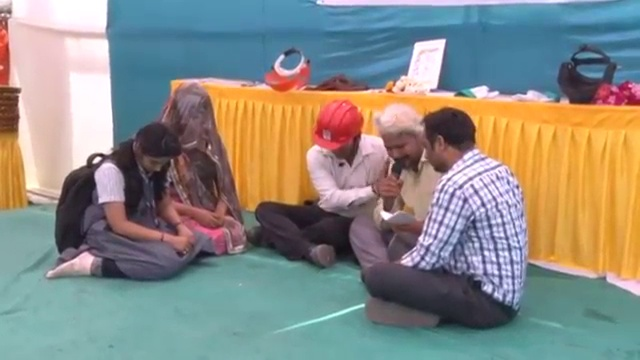helmet: (305, 97, 367, 151)
helmet_off: (421, 106, 478, 179), (163, 80, 219, 153), (126, 122, 179, 180), (379, 106, 426, 169)
helmet_on: (309, 93, 365, 166)
person: (364, 99, 528, 328), (47, 119, 200, 282), (249, 93, 389, 264), (153, 73, 248, 262), (346, 99, 444, 272)
